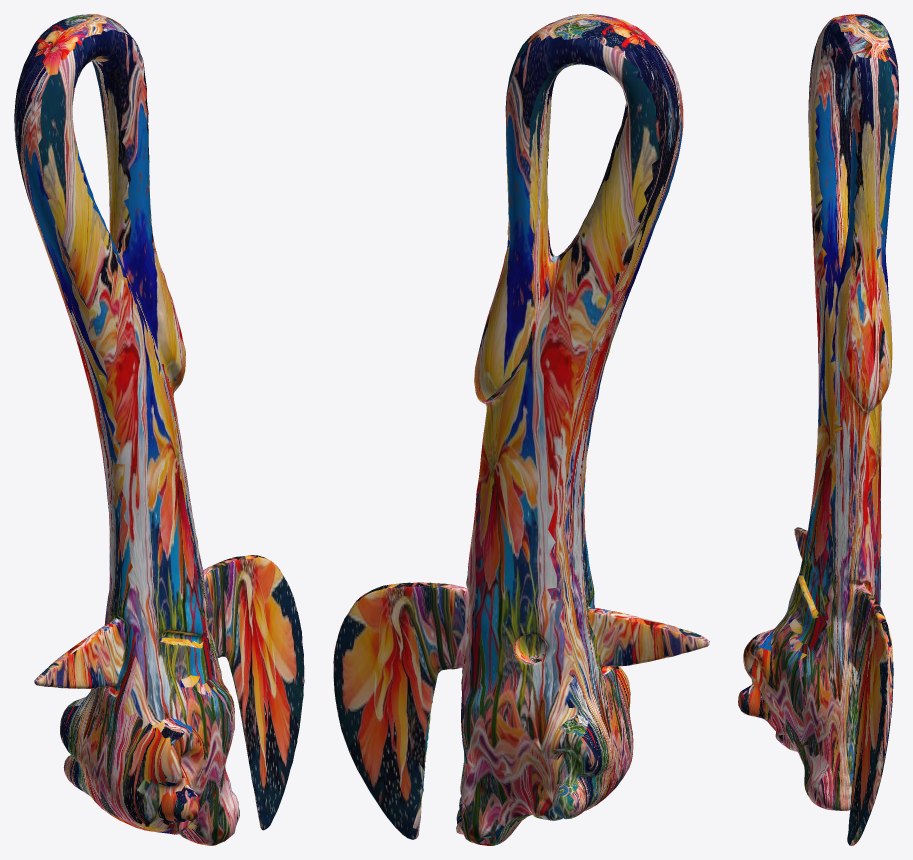
The model's file is si_nmaahc_bully-beef-can-opener.glb.
The picture shows the model from 3 angles, left to right: view 1: azimuth 30°, elevation 25°; view 2: azimuth 150°, elevation 25°; view 3: azimuth 270°, elevation 25°; orthographic projection. The views are drawn at different scales.
Parts seen in each view (by area): view 1: A; view 2: A; view 3: A.
Part boxes in pixels (x1=…): A: x1=14, y1=14, x2=304, y2=845; A: x1=333, y1=14, x2=709, y2=845; A: x1=738, y1=14, x2=898, y2=845.
Size of the model in its own units: 0.7841 by 2 by 0.3906.
1 material, 1 textured.
